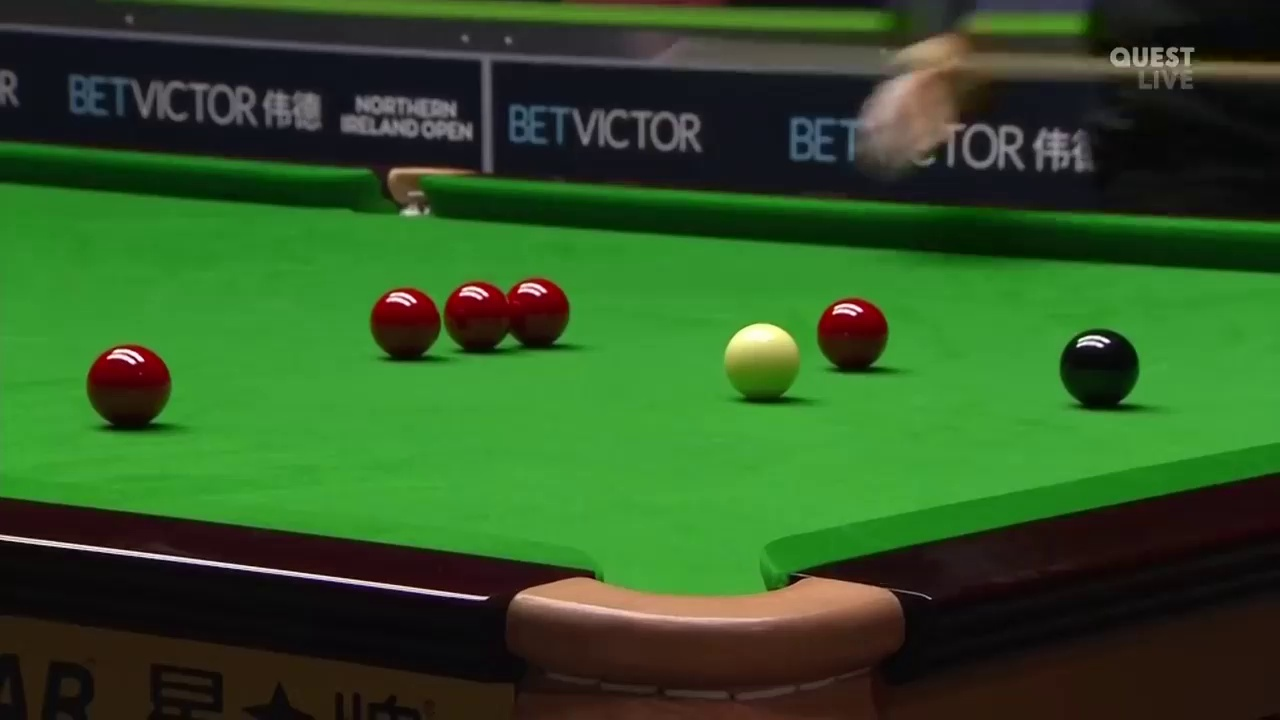black: (1058, 329, 1138, 402)
red: (86, 347, 170, 422), (369, 286, 439, 358), (818, 297, 887, 366), (505, 277, 568, 344), (445, 283, 505, 350)
white: (723, 320, 800, 401)
